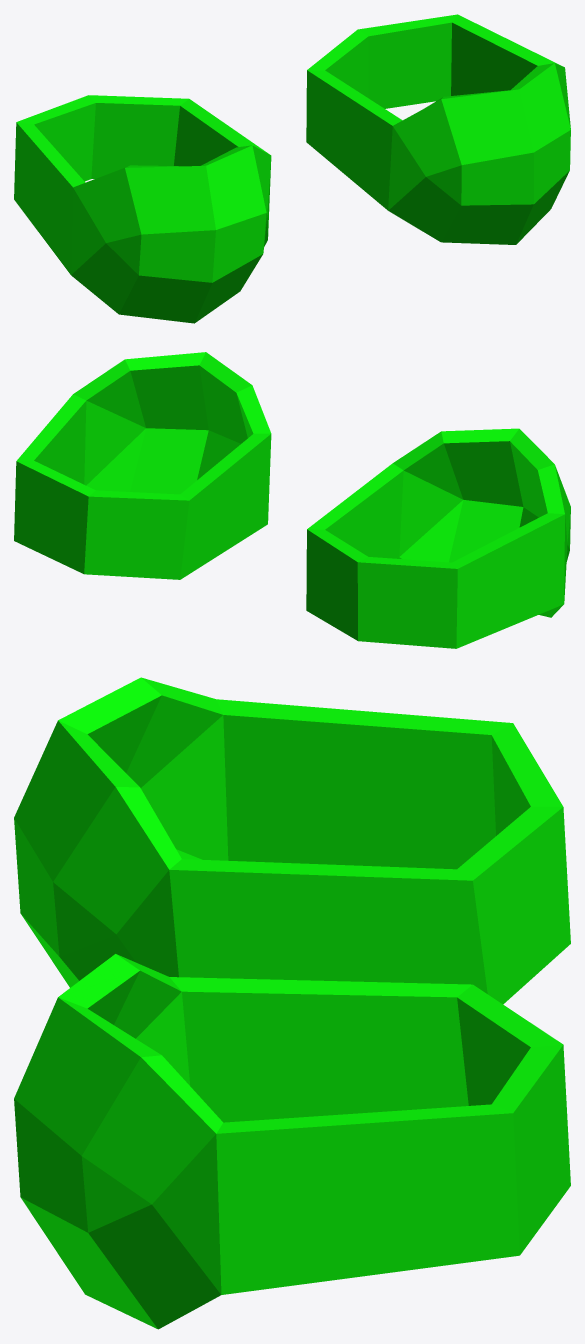
The model's file is SM_Armor_Legs_C_Hanging_Fantasy.fbx.
3 renders of one model, top to bottom at view 1: azimuth 30°, elevation 25°; view 2: azimuth 150°, elevation 25°; view 3: azimuth 270°, elevation 25°, orthographic. The views are drawn at different scales.
Visible parts, largest first — view 1: armor-legs-c-hanging-fantasy; view 2: armor-legs-c-hanging-fantasy; view 3: armor-legs-c-hanging-fantasy.
Boxes of the visible parts, x1,y1,x2,y2 form: armor-legs-c-hanging-fantasy: [14, 14, 570, 323]; armor-legs-c-hanging-fantasy: [14, 352, 570, 648]; armor-legs-c-hanging-fantasy: [14, 677, 570, 1329].
Bounding box in the file's own units: 0.3151 × 0.099 × 0.1702.
